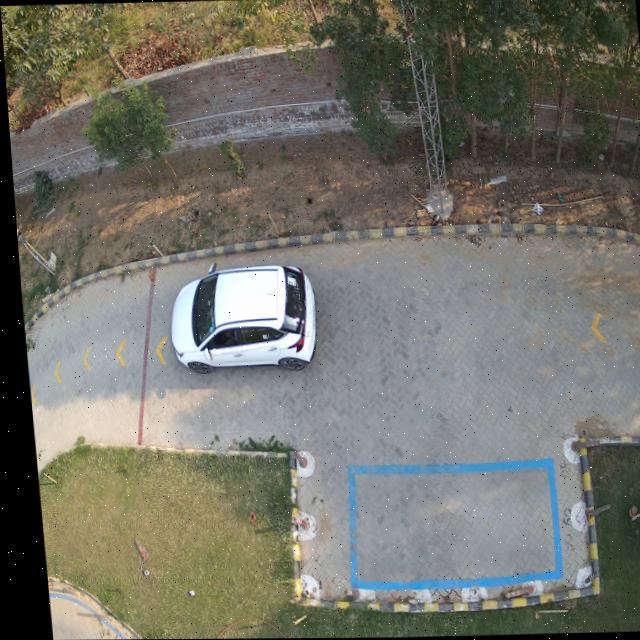car: (165, 265, 311, 372)
